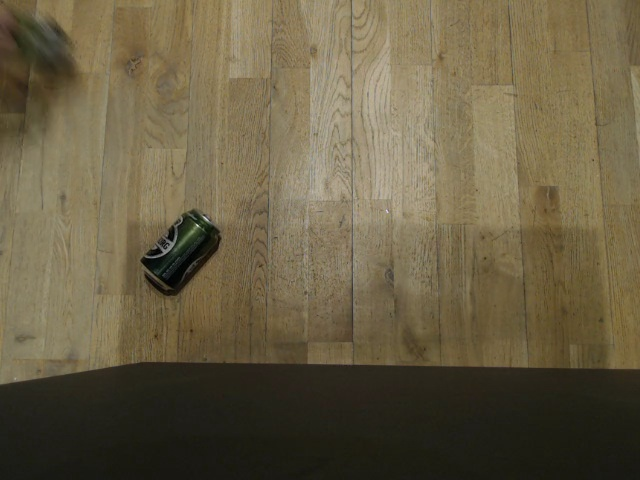beer: (137, 204, 223, 295)
